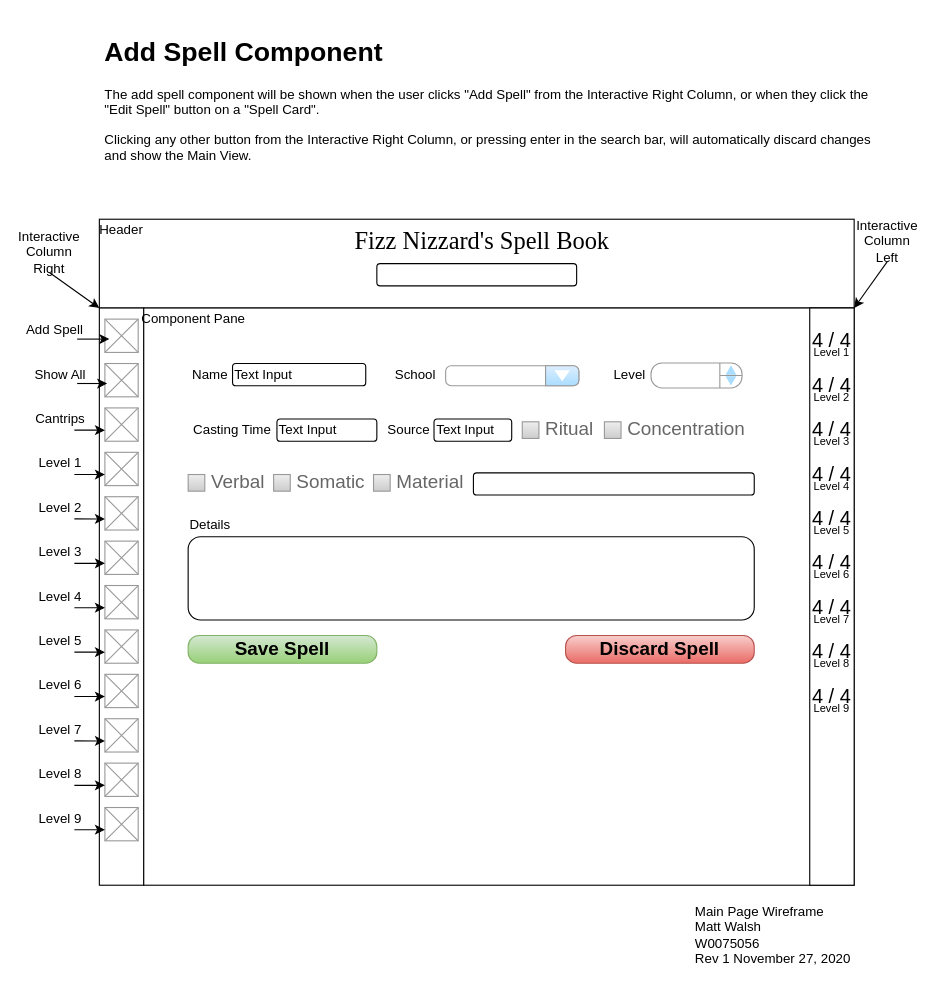
This 937x992 diagram has some shape labels left out. The shapes that lost their labels are listed below. From the top down, each one's centre as x and y in pixels, then its label:
At point (476, 274): "Search".
At point (512, 375): "Drop Down".
At point (696, 375): "Number".
At point (613, 483): "Text Input Hidden; Appears w/ Material Check".
At point (470, 578): "Text Input Optional".
